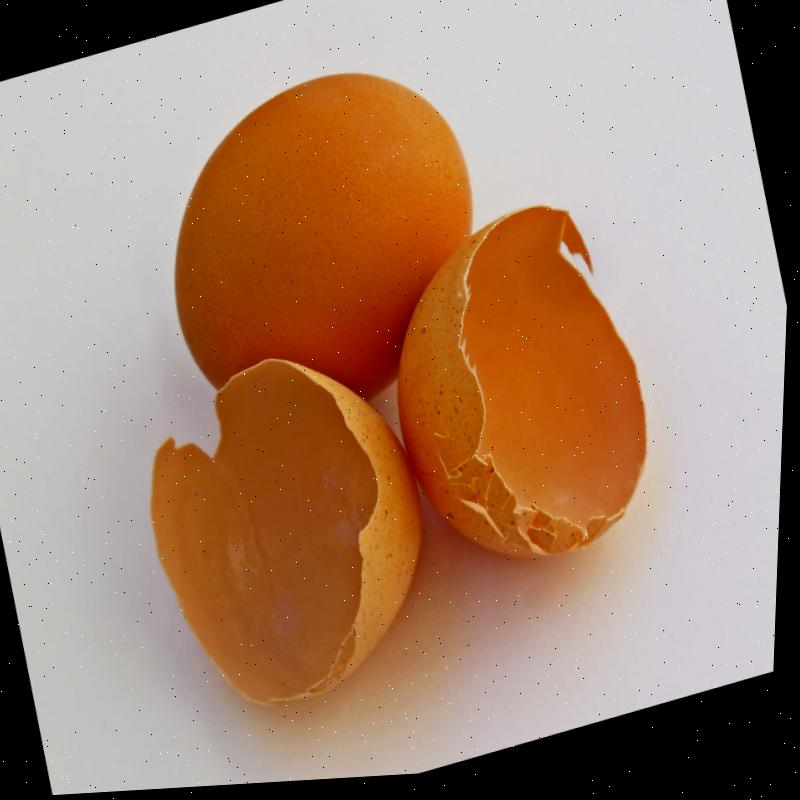egg shell: (173, 73, 474, 401), (151, 357, 425, 708), (397, 205, 647, 560)
